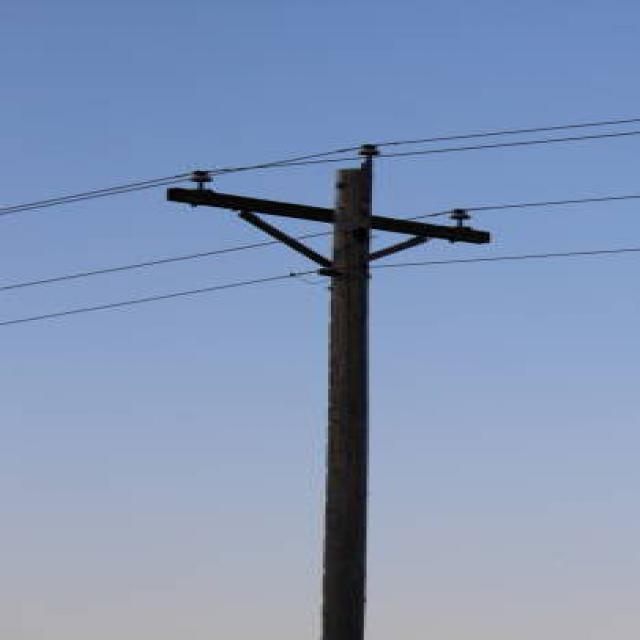pole: (162, 134, 500, 640)
